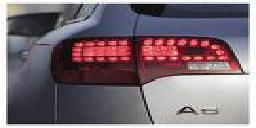LED: (69, 37, 228, 69)
